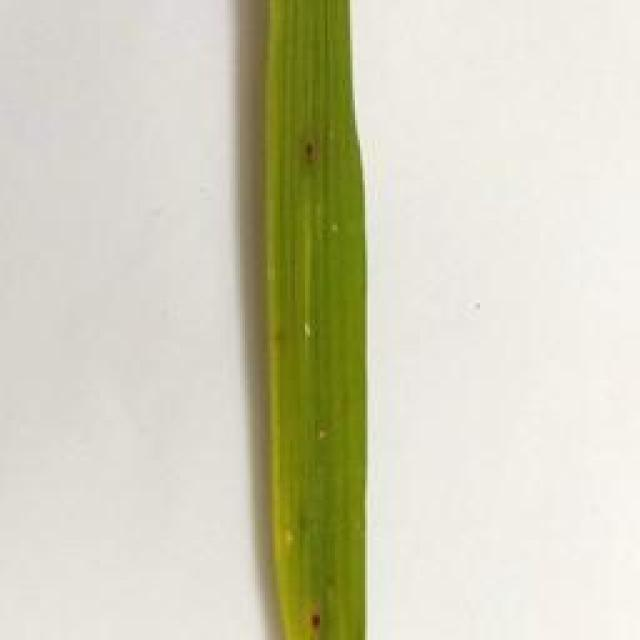Bacterial_Blight: (308, 419, 342, 460), (324, 214, 353, 236), (282, 521, 302, 551), (298, 317, 316, 348)
Brown_Spot: (298, 123, 320, 173), (306, 596, 329, 636)
